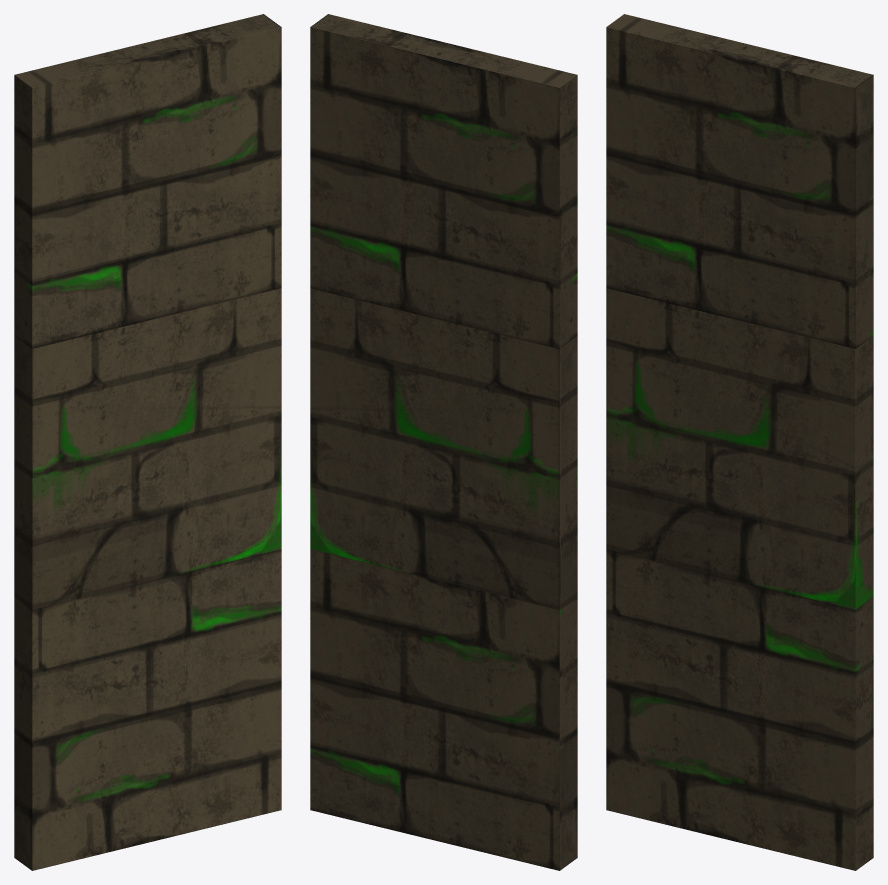
The model's file is lowwall2.FBX.
3 renders of one model, left to right at view 1: azimuth 30°, elevation 25°; view 2: azimuth 150°, elevation 25°; view 3: azimuth 330°, elevation 25°, orthographic.
Visible parts, largest first — view 1: Box006; view 2: Box006; view 3: Box006.
Part boxes in pixels (<box>): Box006: <box>14,14,281,870</box>; Box006: <box>310,14,577,870</box>; Box006: <box>606,14,873,870</box>.
Bounding box in the file's own units: 40 × 120 × 5.
